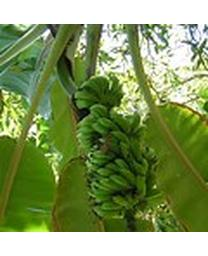banana: (72, 75, 164, 219)
